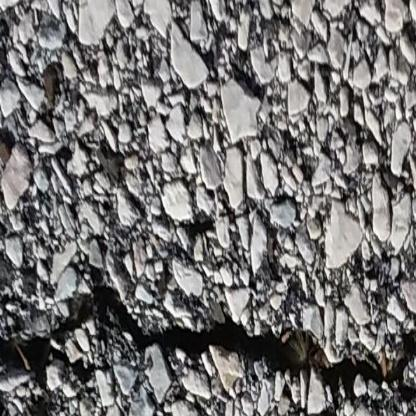Cracks: (0, 287, 416, 404)
